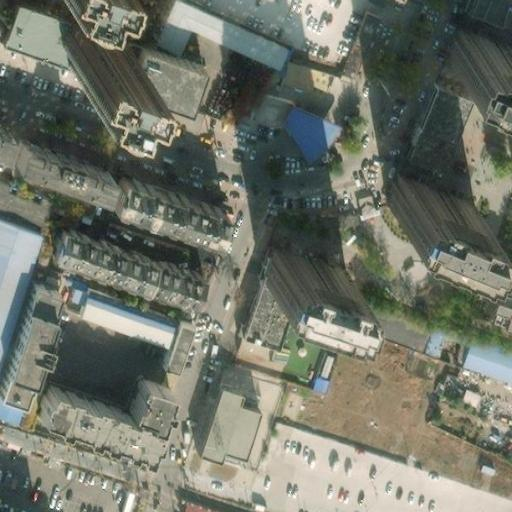building: (0, 6, 195, 115), (41, 219, 198, 299), (29, 371, 159, 447), (141, 0, 277, 65), (57, 275, 171, 341), (104, 171, 219, 235), (252, 242, 345, 302), (383, 174, 470, 234), (6, 140, 101, 192), (405, 87, 463, 171), (338, 294, 425, 348), (0, 212, 37, 337), (190, 377, 250, 448), (440, 24, 512, 83), (236, 275, 290, 349), (269, 104, 337, 158), (273, 55, 339, 103), (455, 333, 512, 382), (471, 274, 512, 317), (156, 309, 187, 360), (172, 491, 242, 512), (460, 0, 501, 21)
